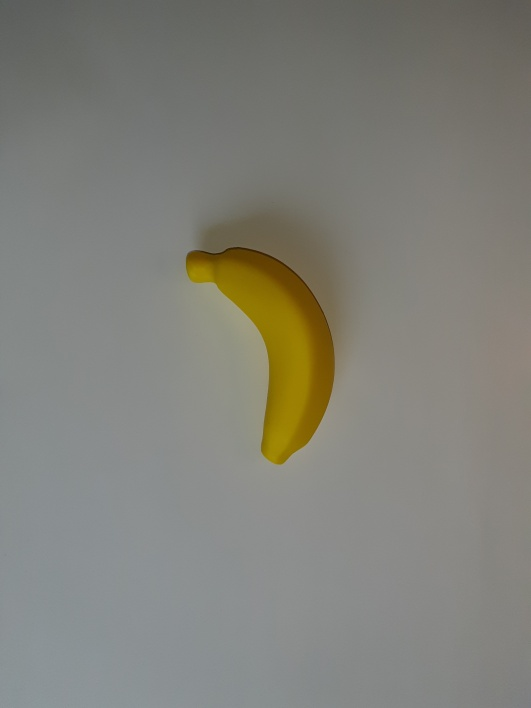banana: (187, 247, 332, 345)
